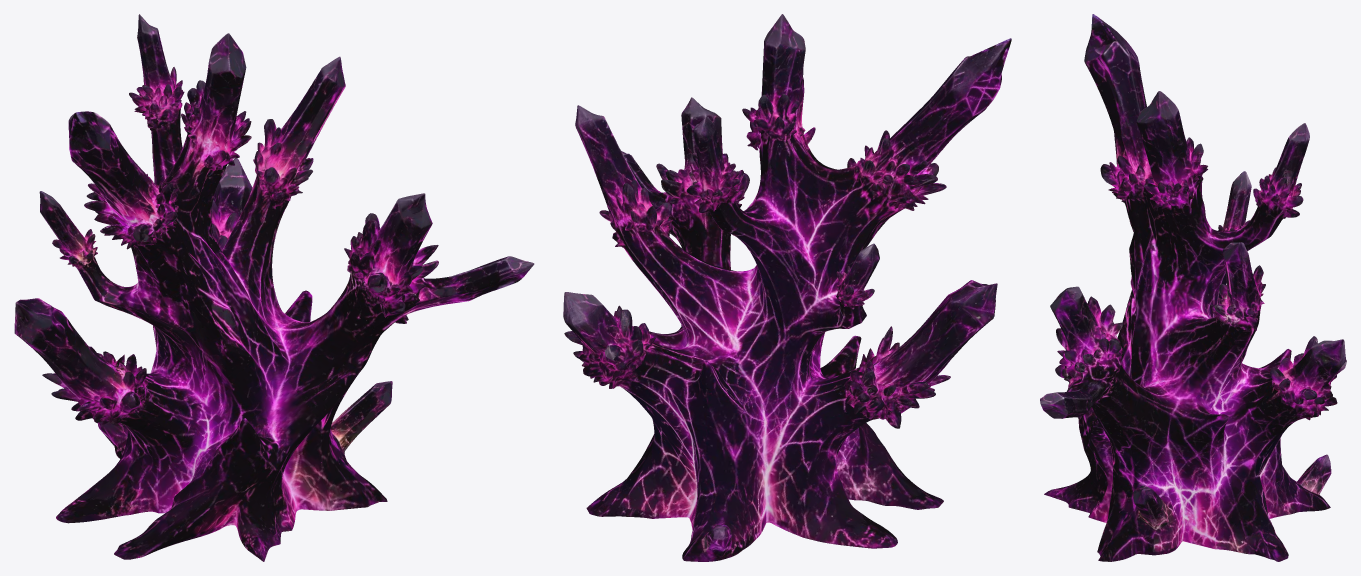
The model's file is crystal-spire-amethyst.glb.
3 views of the same model, side by side, from view 1: azimuth 30°, elevation 25°; view 2: azimuth 150°, elevation 25°; view 3: azimuth 270°, elevation 25° (orthographic). The views are drawn at different scales.
Size of the model in its own units: 1.9 by 1.9 by 1.27.
1 material, 1 textured.
